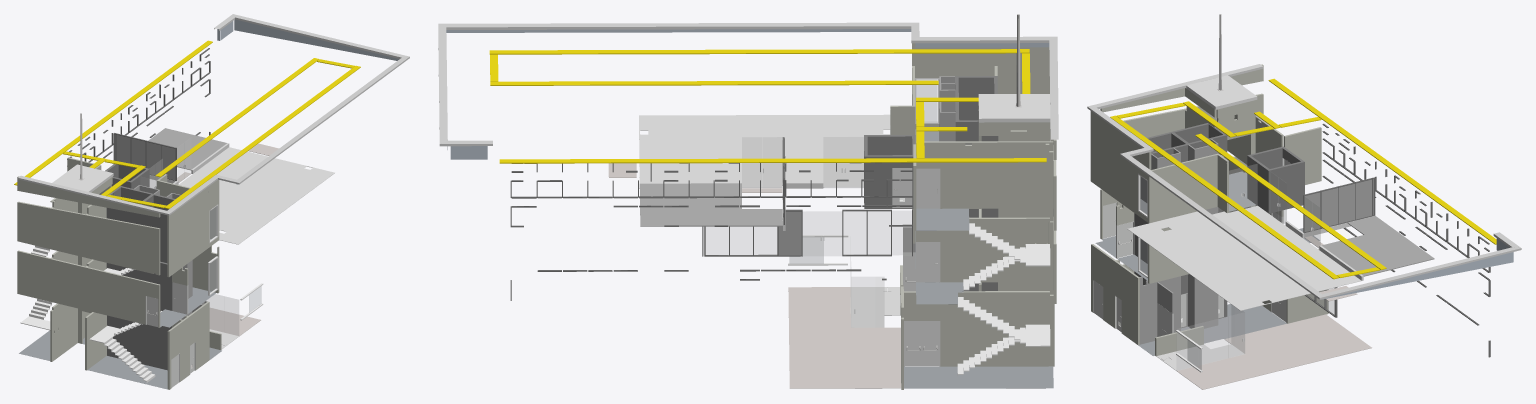
Rendered from pt-111-puesto-mando-hq-p05-v00.glb.
3 views of the same model, side by side, from view 1: azimuth 30°, elevation 25°; view 2: azimuth 150°, elevation 25°; view 3: azimuth 270°, elevation 25° (orthographic). The views are drawn at different scales.
Visible parts, largest first — view 1: 14PvqAZW1BjfhtQtn7b9dM, 1dwhPM3Vn8TPIxJjqe70gN, 35eaMEun11vvWWPBwO40aU, 14PvqAZW1BjfhtQtn7b9dK, 1HV$h0YdvAwO80KmRgnMIY, 1wMK2SYVT58xjKWYqlY_tk, 1lHLWI7NL2TwHRK_7CKfzE, 0C80$jIGr2cRd2KXpKdtIp, 1lQQLxhD57vBMsb64049_J, 3j8G1WeT9FbfOoWL4L0XnR, 1PDXJ4FrHBlh7UtW_0A4h1, 1PDXJ4FrHBlh7UtW_0A4q_ (+26 smaller); view 2: 1dwhPM3Vn8TPIxJjqe70gN, 1dwhPM3Vn8TPIxJjqe70oe, 1lHLWI7NL2TwHRK_7CKfzE, 1iMmaQhIvEGOZznmgh$2TX, 08BcoRHLDAhgiqwqbbkexl, 0C80$jIGr2cRd2KXpKdtIp, 14PvqAZW1BjfhtQtn7b9dK, 1dwhPM3Vn8TPIxJjqe717l, 3j8G1WeT9FbfOoWL4L0XnR, 14PvqAZW1BjfhtQtn7b9aj, 1PDXJ4FrHBlh7UtW_0A4q_, 1PDXJ4FrHBlh7UtW_0A4h1 (+41 smaller); view 3: 1dwhPM3Vn8TPIxJjqe70gN, 1dwhPM3Vn8TPIxJjqe70oe, 14PvqAZW1BjfhtQtn7b9dK, 0C80$jIGr2cRd2KXpKdtIp, 2uhEU2upf2UwB39WqPITQC, 1HV$h0YdvAwO80KmRgnMIY, 14PvqAZW1BjfhtQtn7b9dM, 2uApzYPI1ElAP9WZFjasdG, 0dAq7ELPHEuBLgCfuXIitB, 3j8G1WeT9FbfOoWL4L0XnR, 1PDXJ4FrHBlh7UtW_0A4q_, 1PDXJ4FrHBlh7UtW_0A4h1 (+38 smaller).
Part boxes in pixels (left/top/right/bottom): 14PvqAZW1BjfhtQtn7b9dM: left=17, top=176, right=160, bottom=275; 1dwhPM3Vn8TPIxJjqe70gN: left=178, top=147, right=334, bottom=244; 35eaMEun11vvWWPBwO40aU: left=17, top=250, right=160, bottom=327; 14PvqAZW1BjfhtQtn7b9dK: left=167, top=179, right=219, bottom=277; 1HV$h0YdvAwO80KmRgnMIY: left=167, top=301, right=209, bottom=389; 1wMK2SYVT58xjKWYqlY_tk: left=107, top=315, right=169, bottom=370; 1lHLWI7NL2TwHRK_7CKfzE: left=50, top=303, right=90, bottom=361; 0C80$jIGr2cRd2KXpKdtIp: left=148, top=128, right=226, bottom=170; 1lQQLxhD57vBMsb64049_J: left=234, top=19, right=399, bottom=60; 3j8G1WeT9FbfOoWL4L0XnR: left=237, top=56, right=409, bottom=184; 1PDXJ4FrHBlh7UtW_0A4h1: left=164, top=65, right=360, bottom=208; 1PDXJ4FrHBlh7UtW_0A4q_: left=14, top=40, right=212, bottom=185; 1dwhPM3Vn8TPIxJjqe70gN: left=639, top=114, right=890, bottom=187; 1dwhPM3Vn8TPIxJjqe70oe: left=788, top=287, right=901, bottom=388; 1lHLWI7NL2TwHRK_7CKfzE: left=904, top=291, right=1054, bottom=366; 1iMmaQhIvEGOZznmgh$2TX: left=916, top=217, right=1053, bottom=282; 08BcoRHLDAhgiqwqbbkexl: left=979, top=122, right=1053, bottom=208; 0C80$jIGr2cRd2KXpKdtIp: left=639, top=183, right=782, bottom=226; 14PvqAZW1BjfhtQtn7b9dK: left=912, top=43, right=1049, bottom=129; 1dwhPM3Vn8TPIxJjqe717l: left=904, top=366, right=1053, bottom=388; 3j8G1WeT9FbfOoWL4L0XnR: left=438, top=22, right=918, bottom=29; 14PvqAZW1BjfhtQtn7b9aj: left=916, top=141, right=981, bottom=208; 1PDXJ4FrHBlh7UtW_0A4q_: left=499, top=158, right=1046, bottom=163; 1PDXJ4FrHBlh7UtW_0A4h1: left=489, top=49, right=1029, bottom=54; 1dwhPM3Vn8TPIxJjqe70gN: left=1127, top=205, right=1361, bottom=310; 1dwhPM3Vn8TPIxJjqe70oe: left=1177, top=314, right=1371, bottom=389; 14PvqAZW1BjfhtQtn7b9dK: left=1090, top=111, right=1151, bottom=223; 0C80$jIGr2cRd2KXpKdtIp: left=1321, top=216, right=1434, bottom=276; 2uhEU2upf2UwB39WqPITQC: left=1151, top=153, right=1218, bottom=222; 1HV$h0YdvAwO80KmRgnMIY: left=1091, top=244, right=1139, bottom=344; 14PvqAZW1BjfhtQtn7b9dM: left=1100, top=64, right=1263, bottom=137; 2uApzYPI1ElAP9WZFjasdG: left=1138, top=304, right=1286, bottom=355; 0dAq7ELPHEuBLgCfuXIitB: left=1139, top=276, right=1180, bottom=344; 3j8G1WeT9FbfOoWL4L0XnR: left=1120, top=154, right=1321, bottom=299; 1PDXJ4FrHBlh7UtW_0A4q_: left=1268, top=78, right=1496, bottom=244; 1PDXJ4FrHBlh7UtW_0A4h1: left=1110, top=115, right=1339, bottom=279.
Bounding box in the file's own units: 33.3 × 18.53 × 26.1.
